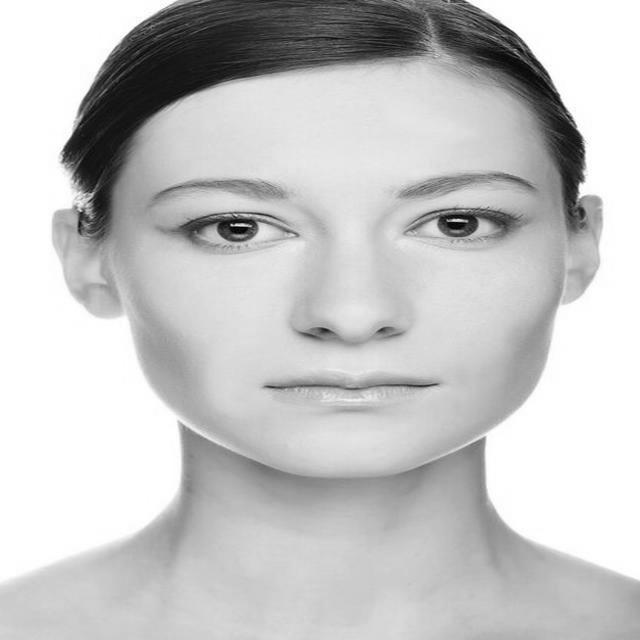Neutral: (109, 63, 567, 479)
